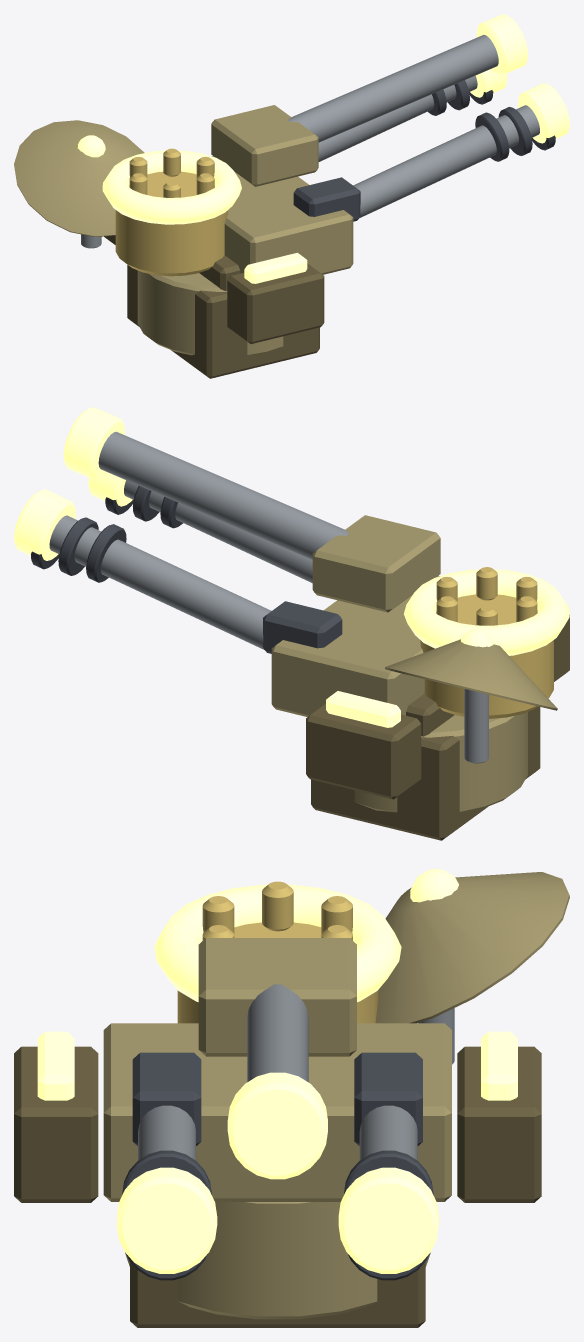
The model's file is flak_turret_l4.glb.
3 views of the same model, one above another, from view 1: azimuth 30°, elevation 25°; view 2: azimuth 150°, elevation 25°; view 3: azimuth 270°, elevation 25° (orthographic). The views are drawn at different scales.
Parts seen in each view (by area): view 1: Cone, Cube.002, Cylinder.019, Cylinder.011, Cube.009, Cube.005, Cube, Cylinder.001, Torus, Cylinder, Cylinder.006, Cube.003 (+9 smaller); view 2: Cube.002, Cylinder.019, Cube.009, Cube.007, Cube, Cylinder.006, Torus, Cylinder, Cone, Cylinder.011, Cylinder.001, Cube.004 (+11 smaller); view 3: Cube.002, Cone, Cylinder, Cube.009, Cube.005, Cube.007, Torus, Cylinder.020, Cylinder.005, Cylinder.010, Cube, Cylinder.019 (+13 smaller).
Boxes of the visible parts, box(x1,y1,x2,y2) form: Cone: box(14, 120, 144, 236); Cube.002: box(212, 156, 353, 274); Cylinder.019: box(288, 35, 498, 142); Cylinder.011: box(115, 171, 228, 276); Cube.009: box(211, 105, 318, 186); Cube.005: box(227, 263, 324, 343); Cube: box(127, 265, 319, 378); Cylinder.001: box(353, 105, 539, 218); Torus: box(102, 150, 241, 224); Cylinder: box(137, 270, 283, 355); Cylinder.006: box(318, 75, 477, 161); Cube.003: box(293, 177, 360, 221); Cube.002: box(271, 575, 439, 716); Cylinder.019: box(98, 431, 349, 559); Cube.009: box(312, 515, 440, 612); Cube.007: box(306, 704, 421, 799); Cube: box(311, 706, 540, 840); Cylinder.006: box(49, 515, 271, 649); Torus: box(404, 569, 569, 655); Cylinder: box(354, 712, 527, 812); Cone: box(385, 639, 557, 710); Cylinder.011: box(420, 594, 553, 718); Cylinder.001: box(124, 480, 312, 583); Cube.004: box(263, 601, 342, 653); Cube.002: box(103, 1023, 451, 1201); Cone: box(375, 872, 569, 1023); Cylinder: box(125, 1202, 430, 1319); Cube.009: box(198, 938, 356, 1056); Cube.005: box(14, 1046, 98, 1202); Cube.007: box(457, 1046, 541, 1202); Torus: box(154, 884, 401, 1002); Cylinder.020: box(227, 1072, 327, 1179); Cylinder.005: box(117, 1167, 217, 1273); Cylinder.010: box(338, 1167, 438, 1273); Cube: box(130, 1262, 425, 1327); Cylinder.019: box(247, 984, 308, 1082).
Size of the model in its own units: 1.77 by 0.9296 by 1.05.
